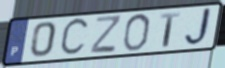0: (29, 21, 59, 59)
C: (58, 15, 91, 59)
J: (183, 6, 216, 49)
O: (121, 12, 152, 53)
T: (159, 11, 182, 48)
Z: (89, 14, 123, 54)
